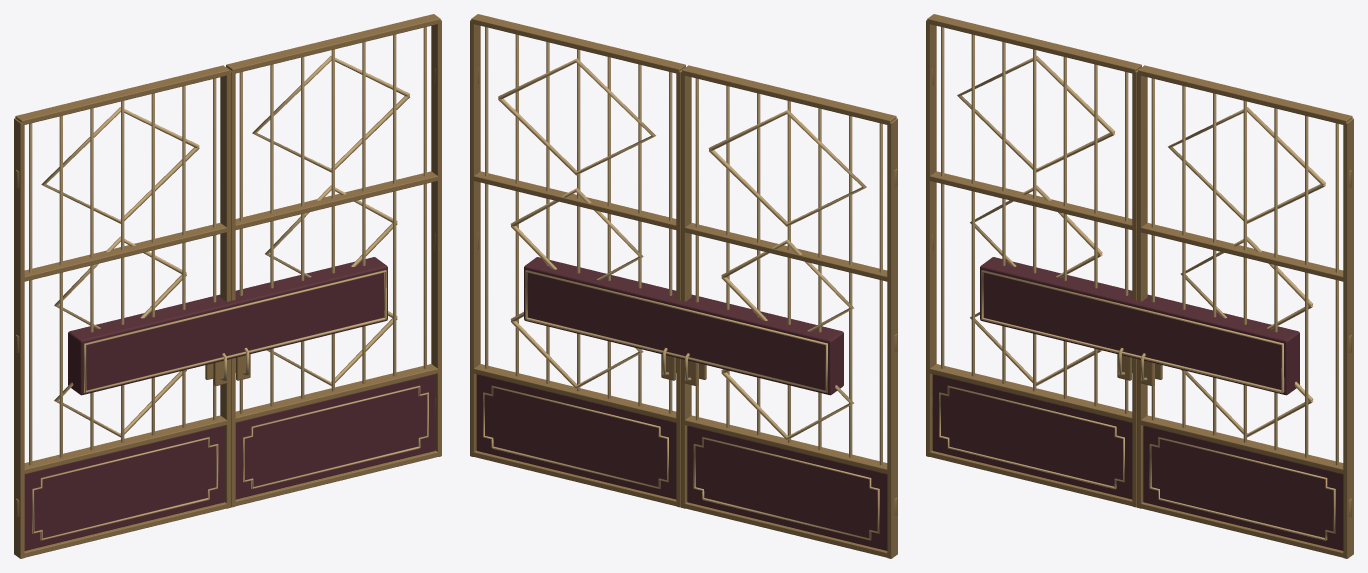
The model's file is casino-deco-gate-vip.glb.
3 renders of one model, left to right at view 1: azimuth 30°, elevation 25°; view 2: azimuth 150°, elevation 25°; view 3: azimuth 330°, elevation 25°, orthographic.
Visible parts, largest first — view 1: gate-vip / Entry smoky oxblood lacquer, gate-vip / Entry aged bronze, gate-vip / Entry champagne brass; view 2: gate-vip / Entry smoky oxblood lacquer, gate-vip / Entry aged bronze, gate-vip / Entry champagne brass; view 3: gate-vip / Entry smoky oxblood lacquer, gate-vip / Entry aged bronze, gate-vip / Entry champagne brass.
Boxes of the visible parts, x1,y1,x2,y2 form: gate-vip / Entry smoky oxblood lacquer: (24, 257, 435, 550); gate-vip / Entry aged bronze: (14, 14, 441, 558); gate-vip / Entry champagne brass: (29, 27, 428, 540); gate-vip / Entry smoky oxblood lacquer: (476, 257, 887, 550); gate-vip / Entry aged bronze: (470, 14, 897, 558); gate-vip / Entry champagne brass: (483, 27, 882, 540); gate-vip / Entry smoky oxblood lacquer: (932, 257, 1343, 550); gate-vip / Entry aged bronze: (926, 14, 1353, 558); gate-vip / Entry champagne brass: (939, 27, 1338, 540).
Bounding box in the file's own units: 4.01 × 3.96 × 0.3013.
